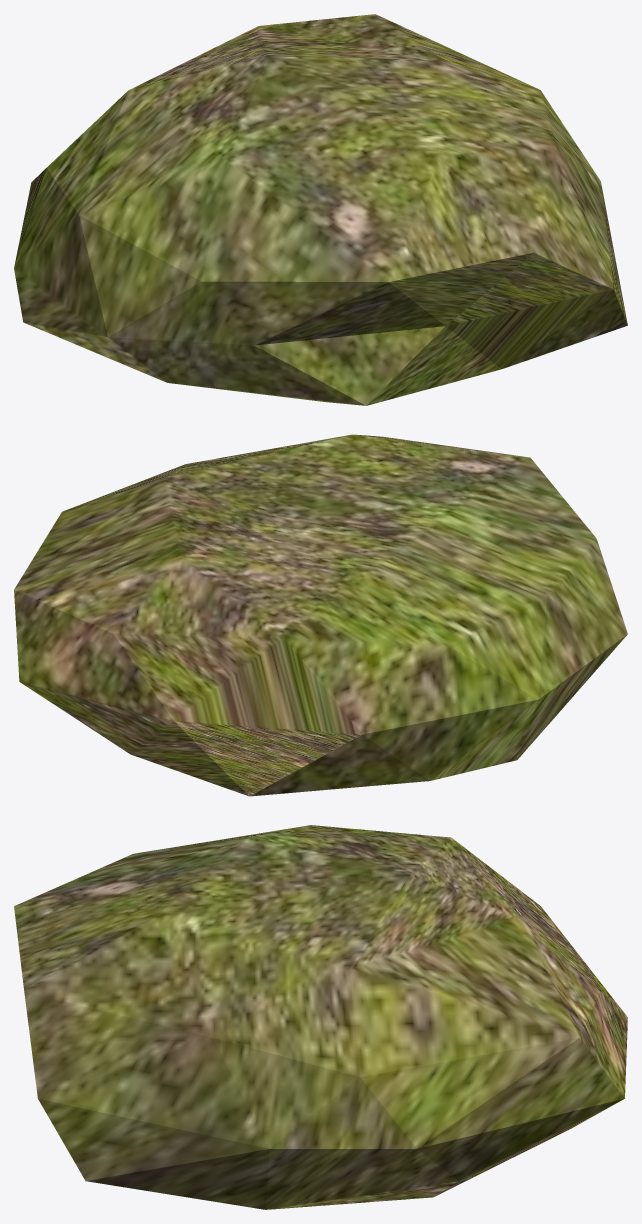
File: Bush3.glb
The picture shows the model from 3 angles, top to bottom: view 1: azimuth 30°, elevation 25°; view 2: azimuth 150°, elevation 25°; view 3: azimuth 270°, elevation 25°; orthographic projection. The views are drawn at different scales.
Parts seen in each view (by area): view 1: Icosphere; view 2: Icosphere; view 3: Icosphere.
Boxes of the visible parts, box(x1,y1,x2,y2) form: Icosphere: box(14, 14, 627, 405); Icosphere: box(14, 434, 627, 796); Icosphere: box(14, 825, 627, 1209).
Bounding box in the file's own units: 4.76 × 2.4 × 4.7.
1 material, 1 textured.
